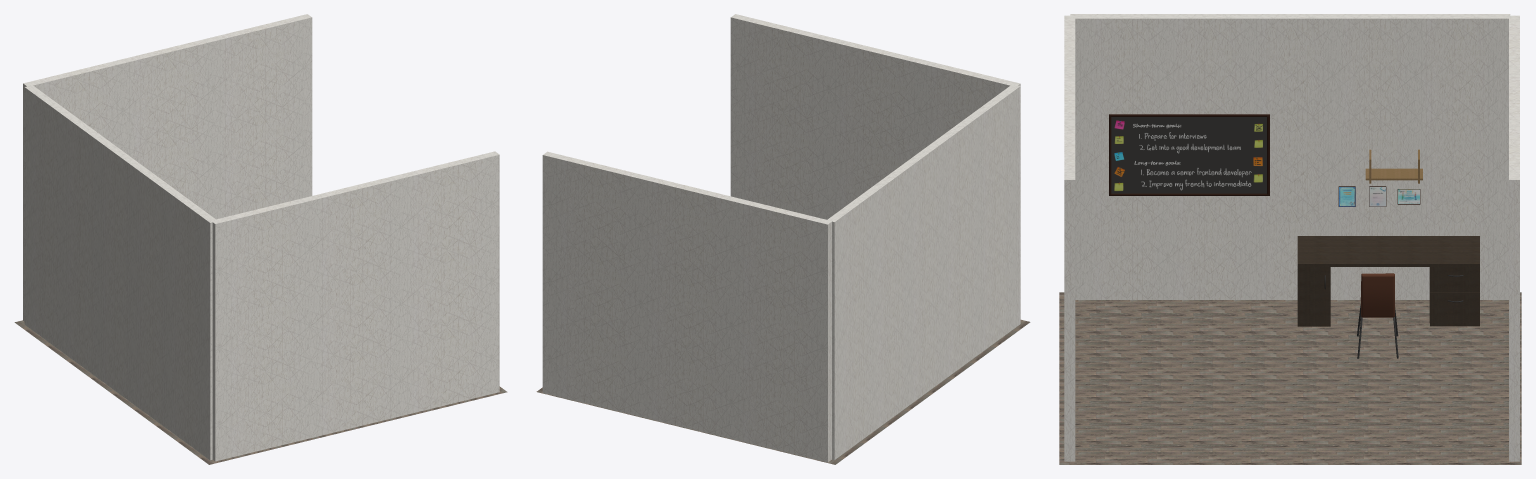
The model's file is main.obj.
3 views of the same model, side by side, from view 1: azimuth 30°, elevation 25°; view 2: azimuth 150°, elevation 25°; view 3: azimuth 270°, elevation 25° (orthographic). The views are drawn at different scales.
Parts seen in each view (by area): view 1: leftWall, mainWall, rightWall, floor; view 2: rightWall, mainWall, leftWall, floor; view 3: mainWall, floor, board, table, leftWall, rightWall, Back, boardBorder, polka.
Part boxes in pixels (x1,y1,x2,y2): leftWall: (211, 151, 499, 461); mainWall: (24, 85, 216, 460); rightWall: (23, 14, 312, 321); floor: (14, 320, 507, 464); rightWall: (542, 151, 831, 462); mainWall: (827, 85, 1020, 459); leftWall: (730, 14, 1020, 219); floor: (536, 319, 1030, 464); mainWall: (1070, 14, 1510, 299); floor: (1059, 292, 1521, 464); board: (1111, 117, 1266, 193); table: (1297, 236, 1479, 326); leftWall: (1064, 15, 1075, 461); rightWall: (1509, 15, 1519, 461); Back: (1361, 273, 1394, 317); boardBorder: (1109, 114, 1269, 195); polka: (1365, 149, 1422, 183).
Size of the model in its own units: 790 by 600 by 893.
